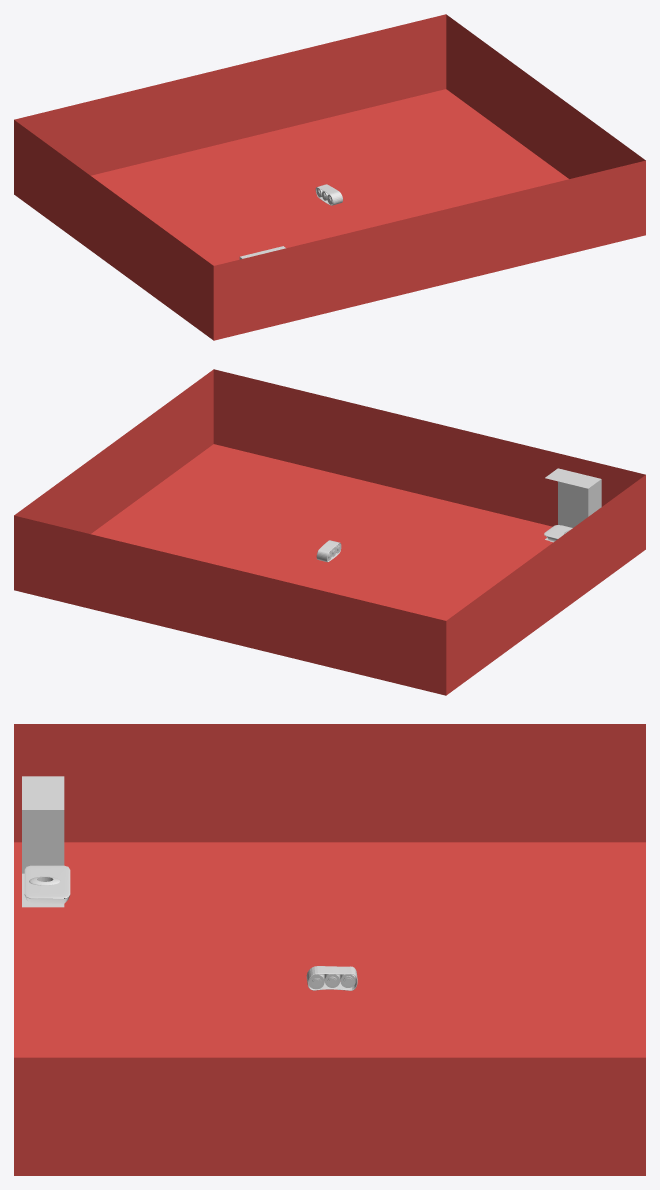
File: DeckBuilderAssets1.fbx
3 views of the same model, one above another, from view 1: azimuth 30°, elevation 25°; view 2: azimuth 150°, elevation 25°; view 3: azimuth 270°, elevation 25° (orthographic). The views are drawn at different scales.
Visible parts, largest first — view 1: Cube; view 2: Cube, Cube.001; view 3: Cube, Cube.001, Cube.002, BézierCurve.
Part boxes in pixels (x1=…): Cube: x1=14, y1=14, x2=645, y2=340; Cube: x1=14, y1=369, x2=645, y2=695; Cube.001: x1=545, y1=468, x2=601, y2=540; Cube: x1=14, y1=724, x2=645, y2=1175; Cube.001: x1=22, y1=776, x2=64, y2=907; Cube.002: x1=24, y1=865, x2=70, y2=903; BézierCurve: x1=306, y1=966, x2=357, y2=990.
Size of the model in its own units: 6754 by 1118 by 5408.
